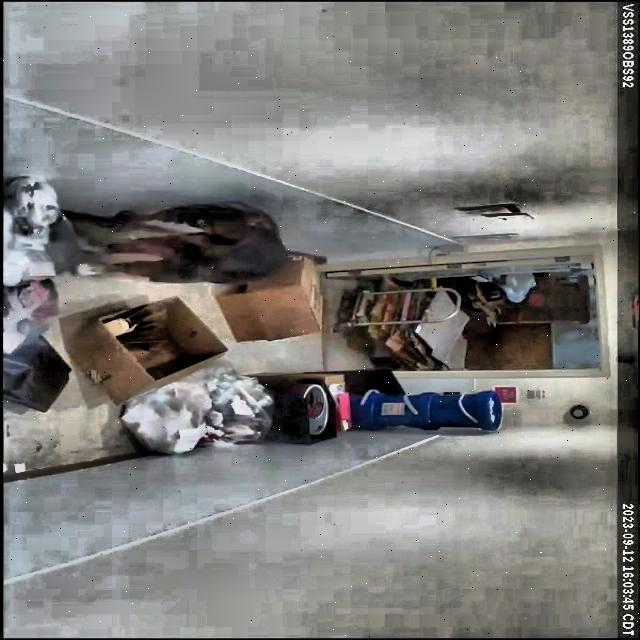not-gloved: (109, 208, 149, 227)
